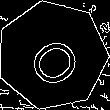O_NE: (18, 23, 87, 88)
